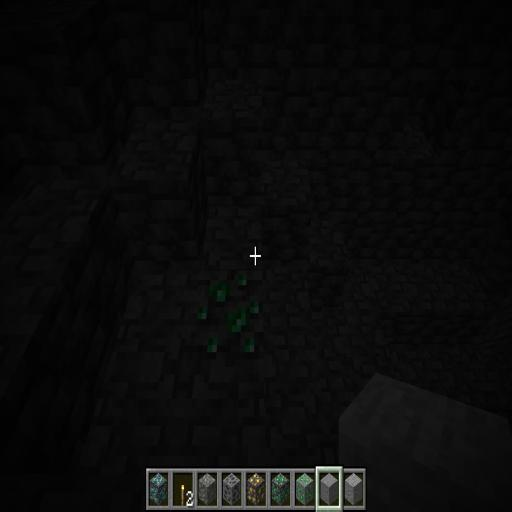emerald ore: (192, 260, 270, 367)
